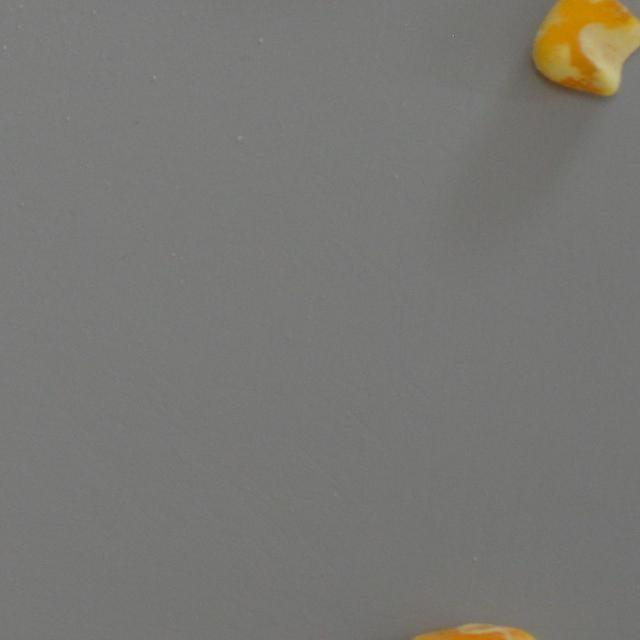dañado: (527, 0, 640, 101), (398, 610, 548, 640)
